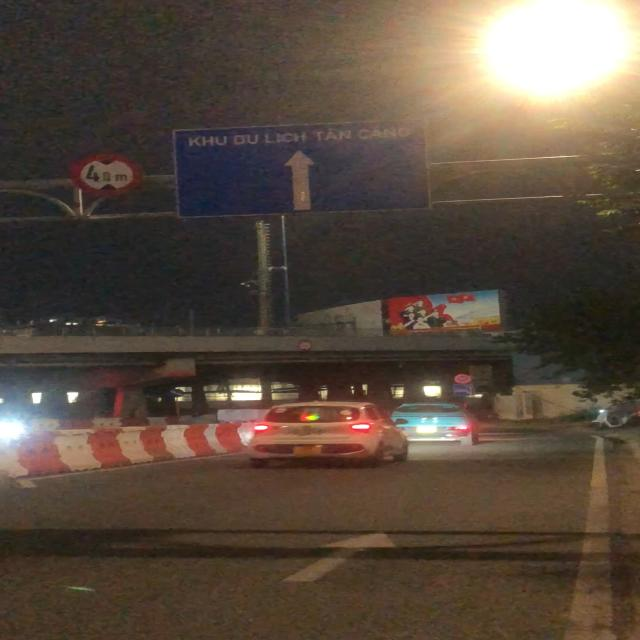Bien bao han che chieu cao: (69, 153, 144, 197)
